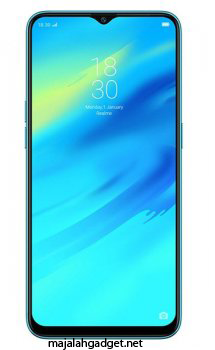Handphone: (24, 8, 184, 341)
